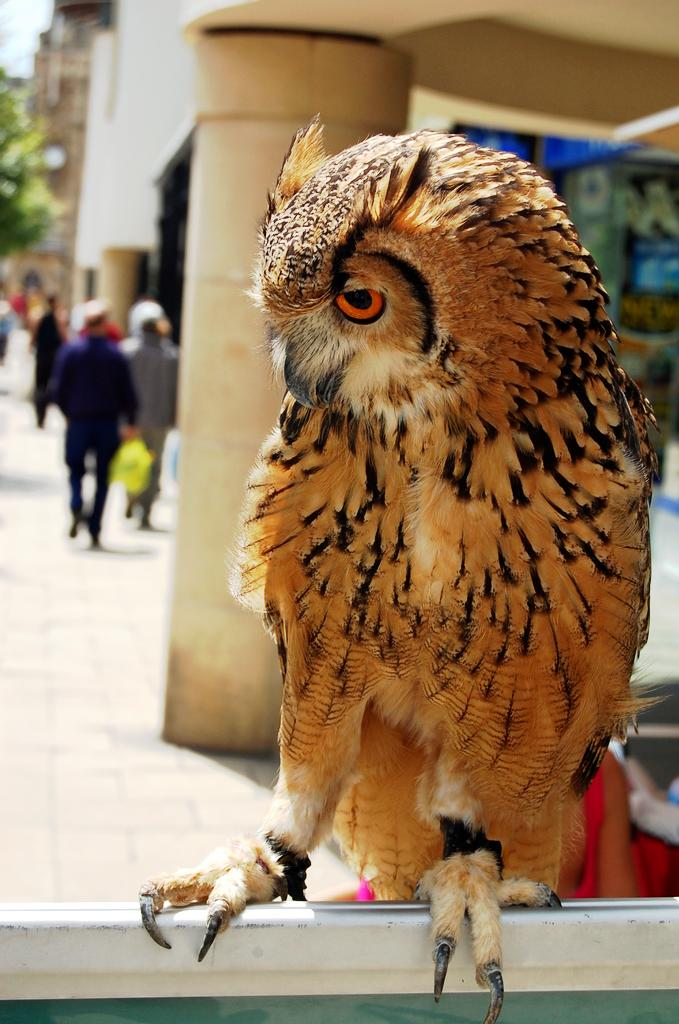Owl: (126, 122, 646, 1024)
